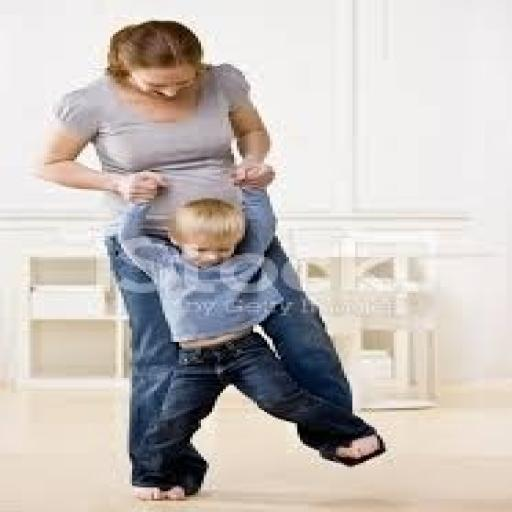dancing: (33, 17, 388, 501)
